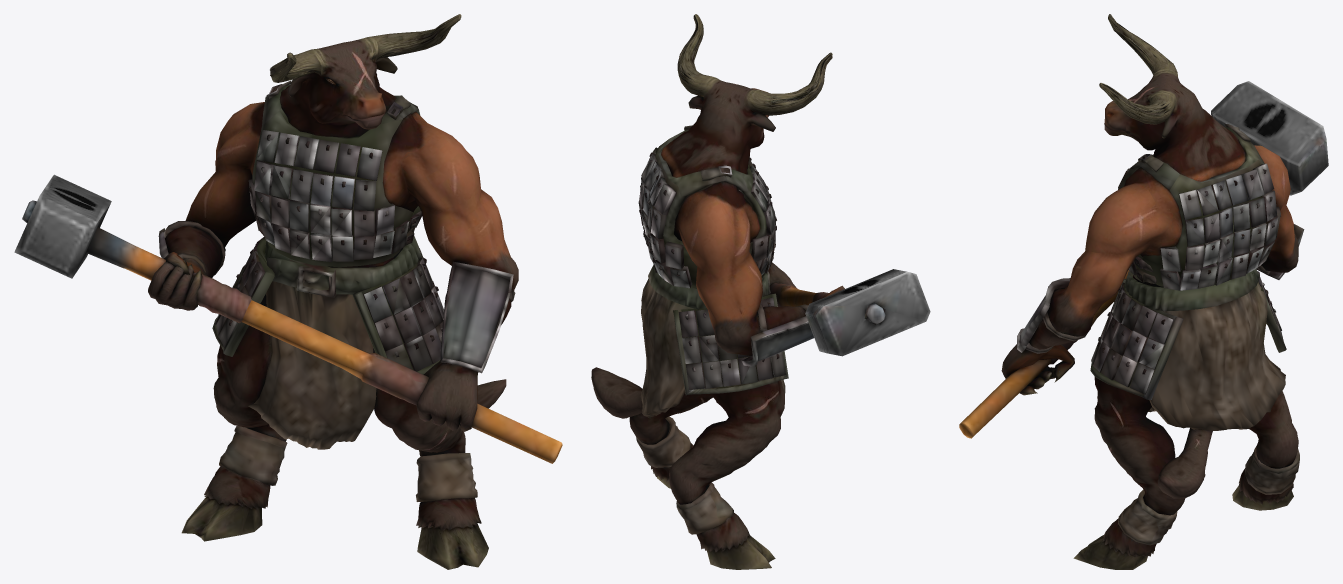
Rendered from MZ4250 - Minotaur Barbarian 5 with Great Hammer_1.glb.
The picture shows the model from 3 angles, left to right: view 1: azimuth 30°, elevation 25°; view 2: azimuth 150°, elevation 25°; view 3: azimuth 270°, elevation 25°; orthographic projection. The views are drawn at different scales.
Visible parts, largest first — view 1: Body.001; view 2: Body.001; view 3: Body.001.
Part boxes in pixels (<box>): Body.001: <box>14,14,562,569</box>; Body.001: <box>591,14,930,569</box>; Body.001: <box>959,14,1328,569</box>.
Size of the model in its own units: 88.94 by 104 by 73.27.
4 materials, 4 textured.
